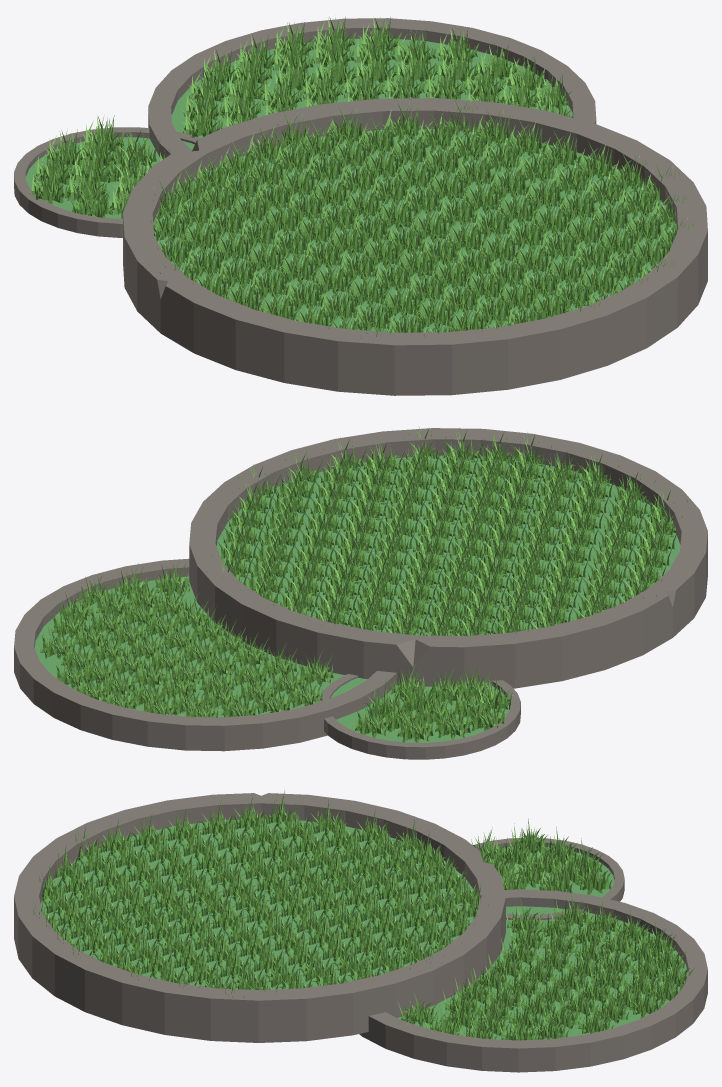
File: GRASS2.fbx
The picture shows the model from 3 angles, top to bottom: view 1: azimuth 30°, elevation 25°; view 2: azimuth 150°, elevation 25°; view 3: azimuth 270°, elevation 25°; orthographic projection. The views are drawn at different scales.
Visible parts, largest first — view 1: Cone.024; view 2: Cone.024; view 3: Cone.024.
Boxes of the visible parts, left/top/right/bottom form: Cone.024: left=14, top=17, right=707, bottom=395; Cone.024: left=14, top=426, right=707, bottom=759; Cone.024: left=14, top=790, right=707, bottom=1072.
Bounding box in the file's own units: 5274 × 687 × 6747.
